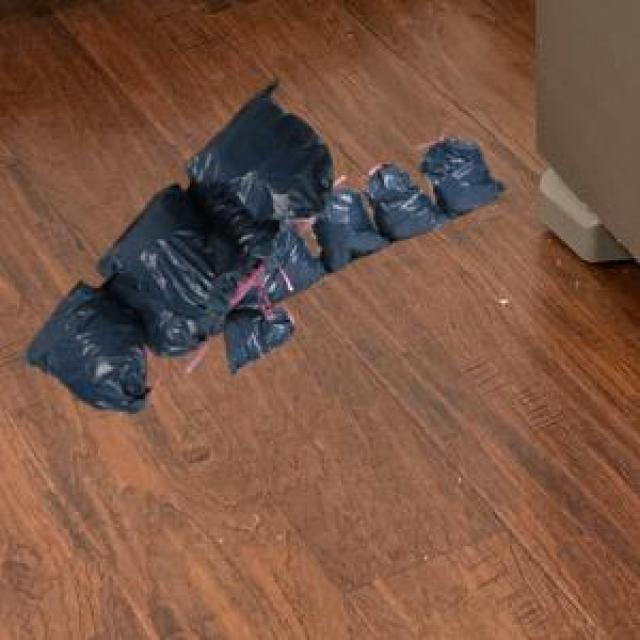waste: (28, 82, 502, 411)
